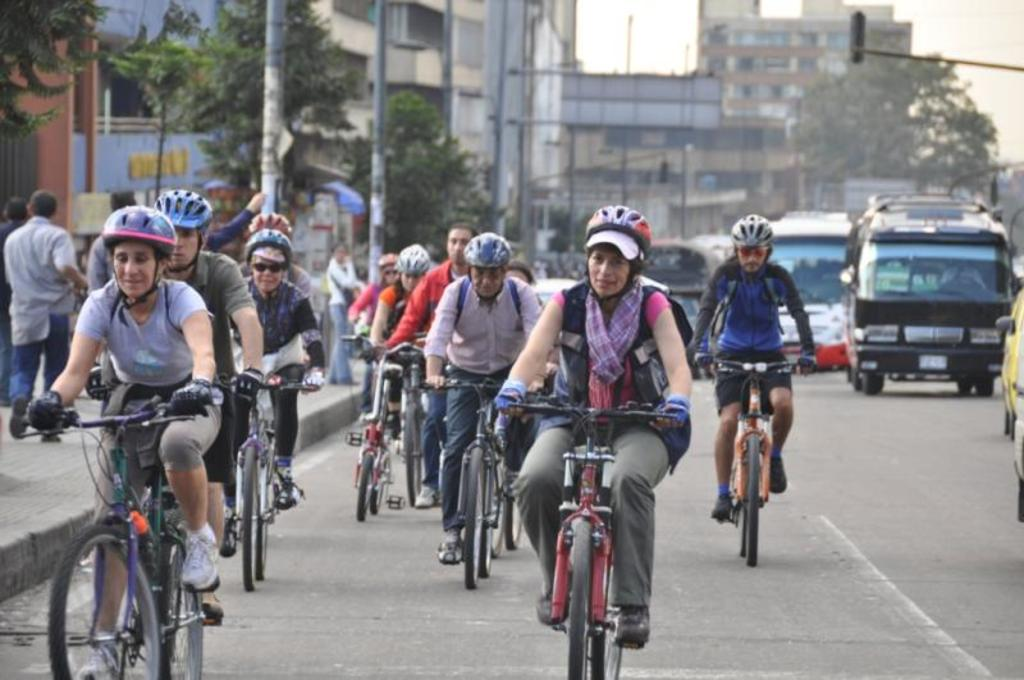Bike_toward: (518, 398, 650, 680)
